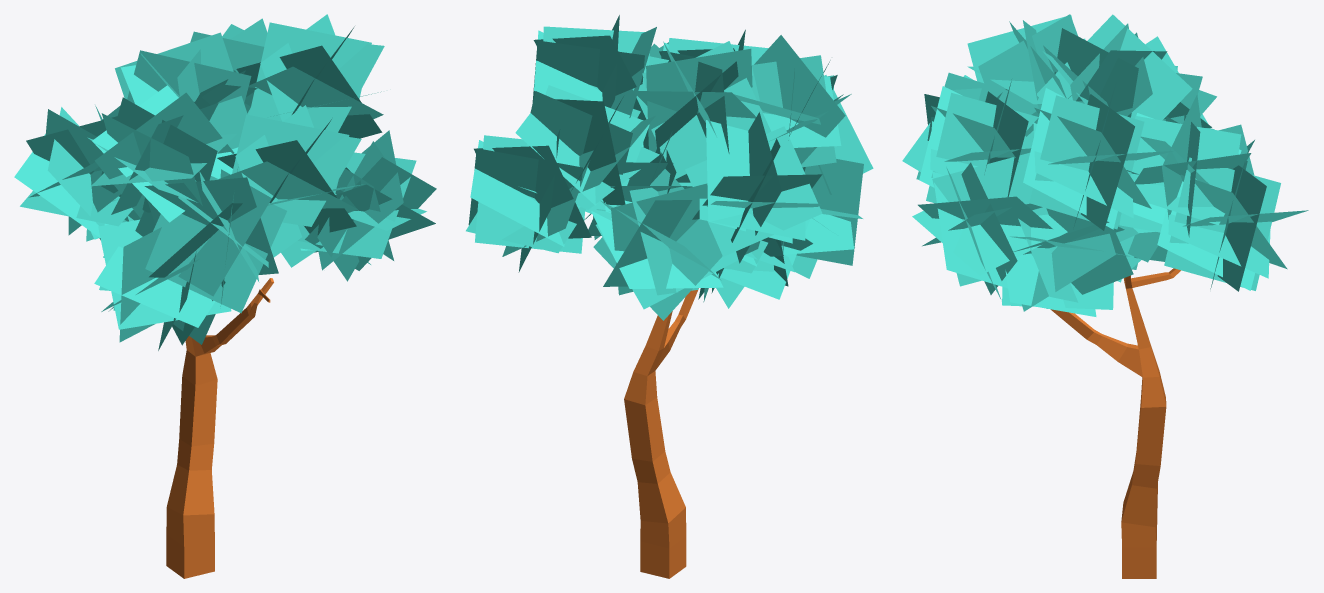
Rendered from treeC.glb.
The picture shows the model from 3 angles, left to right: view 1: azimuth 30°, elevation 25°; view 2: azimuth 150°, elevation 25°; view 3: azimuth 270°, elevation 25°; orthographic projection. The views are drawn at different scales.
Parts seen in each view (by area): view 1: Plane.031, Plane.041, Plane.033, Plane.029, Cube.003, Plane.040, Plane.039, Plane.036, Plane.034, Plane.042; view 2: Plane.036, Plane.038, Plane.032, Plane.034, Cube.003, Plane.042, Plane.033, Plane.041, Plane.039, Plane.037, Plane.028, Plane.031 (+2 smaller); view 3: Plane.033, Plane.040, Plane.032, Cube.003, Plane.034, Plane.030, Plane.042, Plane.029, Plane.041, Plane.031, Plane.036, Plane.028.
Boxes of the visible parts, left/top/right/bottom form: Plane.031: left=144, top=167, right=286, bottom=313; Plane.041: left=87, top=85, right=237, bottom=222; Plane.033: left=236, top=14, right=384, bottom=138; Plane.029: left=217, top=105, right=363, bottom=257; Cube.003: left=166, top=278, right=273, bottom=578; Plane.040: left=289, top=130, right=436, bottom=281; Plane.039: left=94, top=211, right=231, bottom=350; Plane.036: left=14, top=105, right=132, bottom=237; Plane.034: left=115, top=32, right=257, bottom=154; Plane.042: left=190, top=18, right=267, bottom=113; Plane.036: left=685, top=112, right=822, bottom=263; Plane.038: left=591, top=169, right=738, bottom=320; Plane.032: left=466, top=129, right=593, bottom=272; Plane.034: left=632, top=41, right=771, bottom=179; Cube.003: left=624, top=288, right=698, bottom=578; Plane.042: left=515, top=85, right=659, bottom=220; Plane.033: left=532, top=15, right=668, bottom=120; Plane.041: left=724, top=35, right=851, bottom=167; Plane.039: left=781, top=159, right=863, bottom=278; Plane.037: left=698, top=219, right=812, bottom=308; Plane.028: left=588, top=129, right=692, bottom=235; Plane.031: left=802, top=75, right=873, bottom=194; Plane.033: left=1023, top=83, right=1175, bottom=230; Plane.040: left=912, top=152, right=1067, bottom=299; Plane.032: left=1157, top=145, right=1308, bottom=291; Cube.003: left=1050, top=268, right=1180, bottom=578; Plane.034: left=1037, top=14, right=1192, bottom=120; Plane.030: left=1000, top=199, right=1133, bottom=316; Plane.042: left=1119, top=94, right=1251, bottom=237; Plane.029: left=919, top=79, right=1038, bottom=203; Plane.041: left=967, top=14, right=1085, bottom=136; Plane.031: left=902, top=72, right=1038, bottom=179; Plane.036: left=1145, top=36, right=1216, bottom=129; Plane.028: left=1116, top=170, right=1167, bottom=268.
Bounding box in the file's own units: 3.4 × 5.24 × 3.66.
